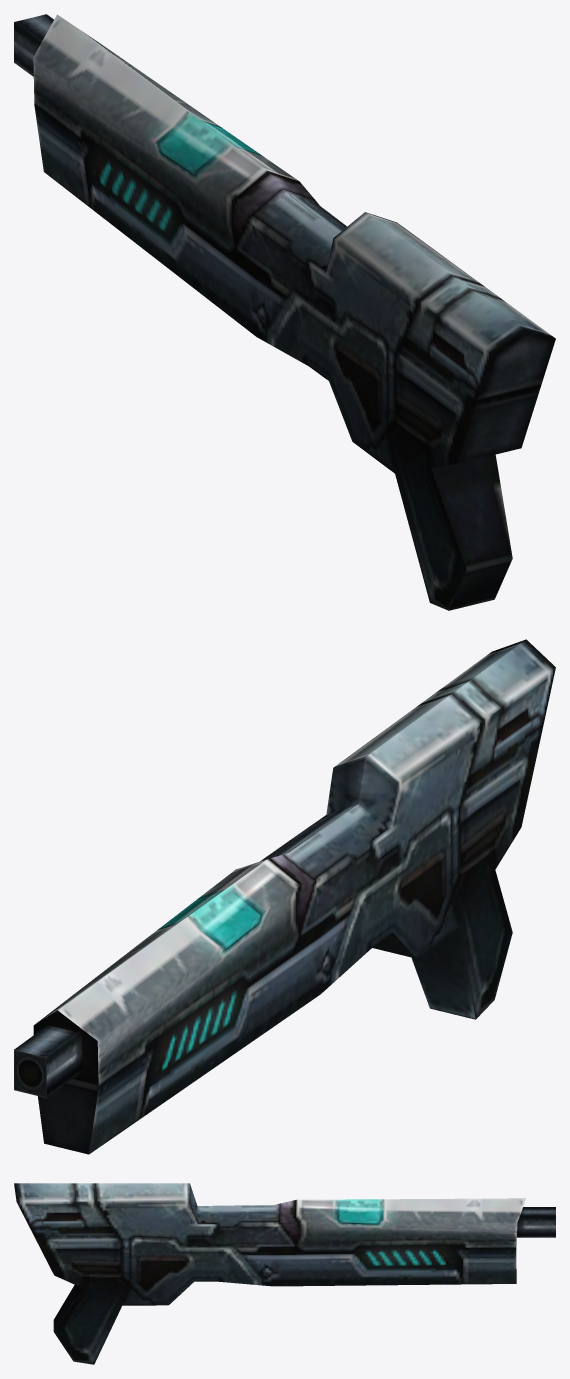
The model's file is gun02_body.obj.
The picture shows the model from 3 angles, top to bottom: view 1: azimuth 30°, elevation 25°; view 2: azimuth 150°, elevation 25°; view 3: azimuth 270°, elevation 25°; orthographic projection. The views are drawn at different scales.
Parts seen in each view (by area): view 1: gun02_body; view 2: gun02_body; view 3: gun02_body.
Boxes of the visible parts, bbox=[...] form: gun02_body: bbox=[14, 14, 555, 610]; gun02_body: bbox=[14, 639, 555, 1154]; gun02_body: bbox=[14, 1183, 555, 1364].
Bounding box in the file's own units: 0.0782 × 0.3742 × 1.05.
Materials: 1 (1 with a texture image).
